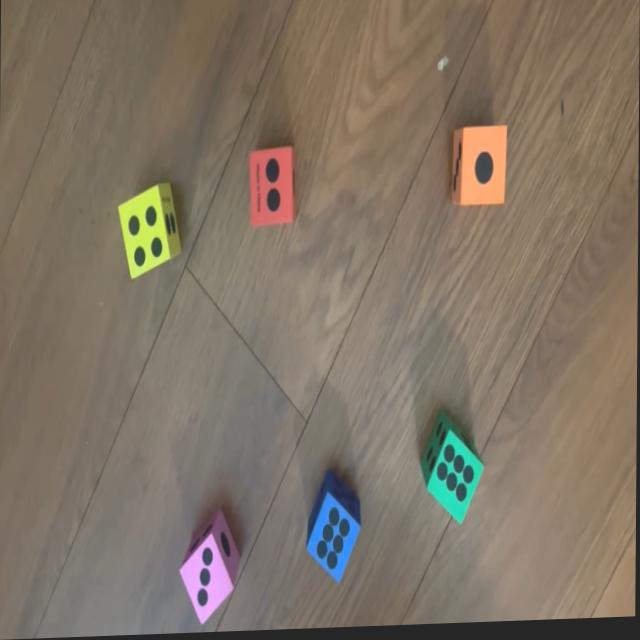blue_block: (305, 477, 363, 588)
red_block: (247, 147, 298, 230)
